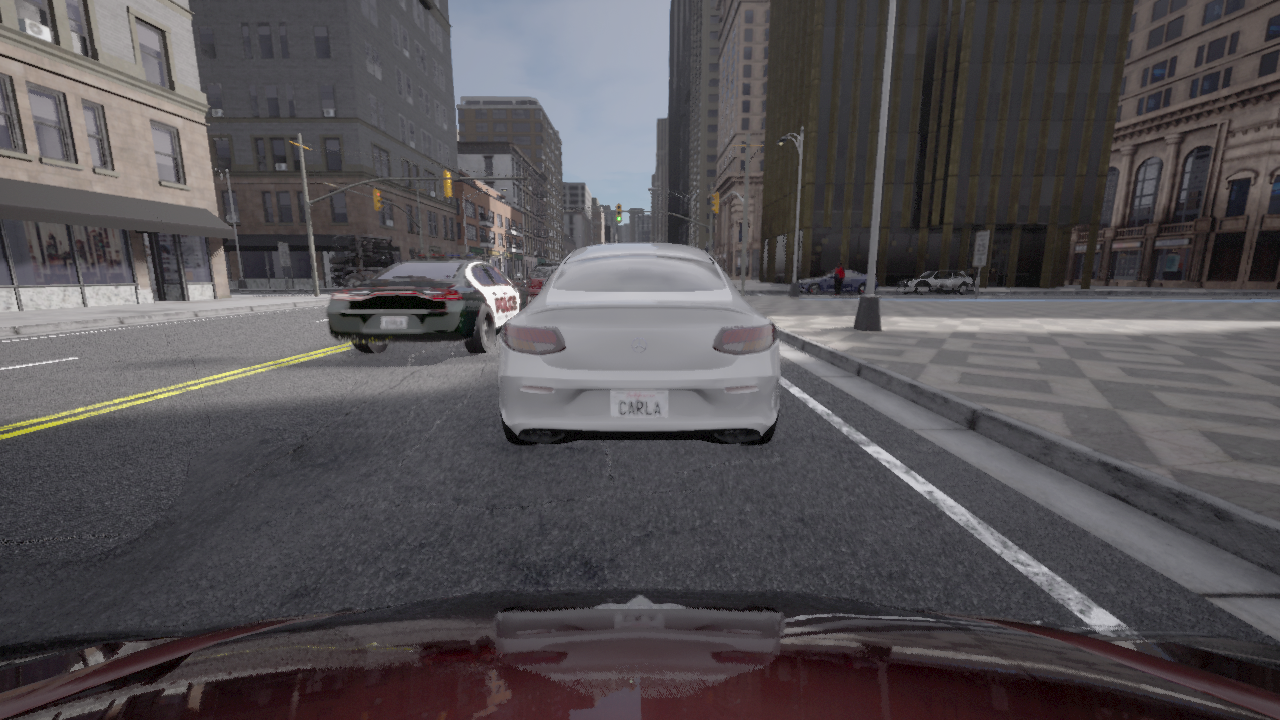cyclist: (0, 588, 1279, 719), (499, 243, 779, 444), (325, 253, 532, 353), (329, 234, 394, 287), (796, 270, 878, 294), (896, 270, 972, 295), (526, 264, 559, 299)
pedestrian: (833, 262, 844, 294)
